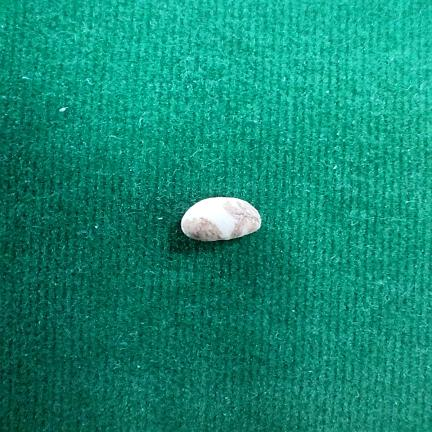shell: (181, 197, 261, 241)
